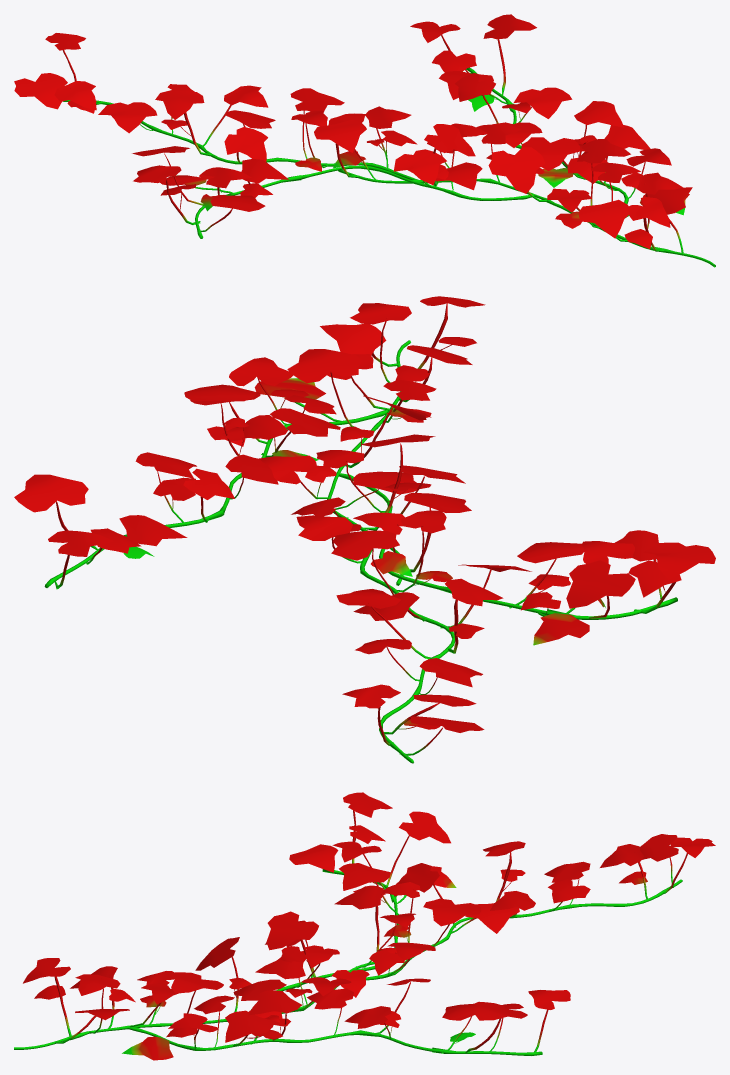
Rendered from Var2_LOD1.fbx.
3 renders of one model, top to bottom at view 1: azimuth 30°, elevation 25°; view 2: azimuth 150°, elevation 25°; view 3: azimuth 270°, elevation 25°, orthographic. The views are drawn at different scales.
Visible parts, largest first — view 1: _qhrx_Var2_LOD1; view 2: _qhrx_Var2_LOD1; view 3: _qhrx_Var2_LOD1.
Part boxes in pixels (box(x1,y1,x2,y2)): _qhrx_Var2_LOD1: box(14, 14, 715, 267); _qhrx_Var2_LOD1: box(14, 296, 715, 763); _qhrx_Var2_LOD1: box(14, 792, 715, 1060).
Size of the model in its own units: 85.15 by 11.6 by 112.
